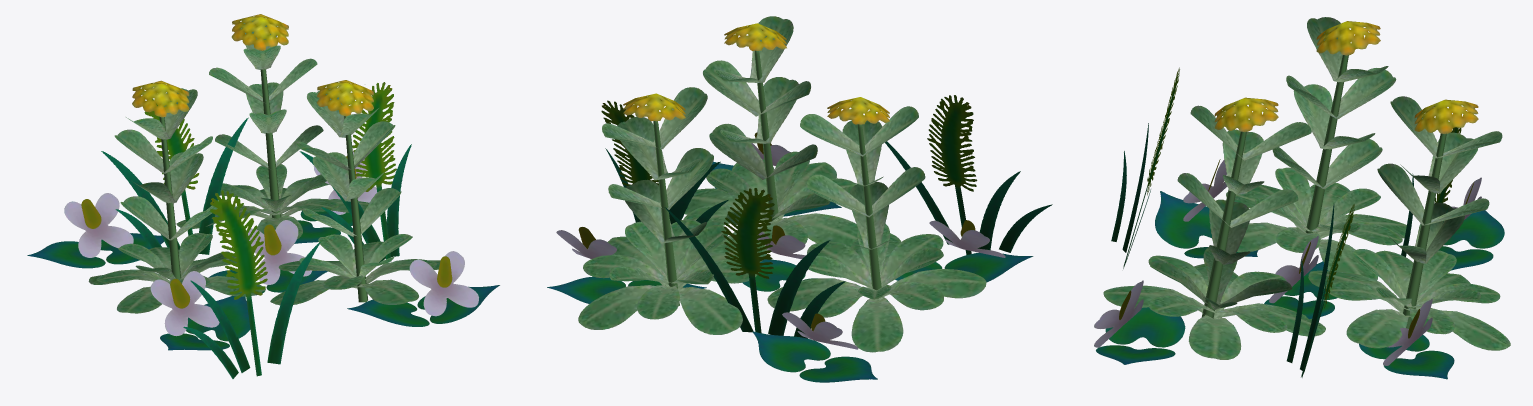
Rendered from weed-summer.glb.
3 renders of one model, left to right at view 1: azimuth 30°, elevation 25°; view 2: azimuth 150°, elevation 25°; view 3: azimuth 270°, elevation 25°, orthographic. The views are drawn at different scales.
Bounding box in the file's own units: 10.93 × 6.59 × 10.41.
Materials: 3 (3 with a texture image).
